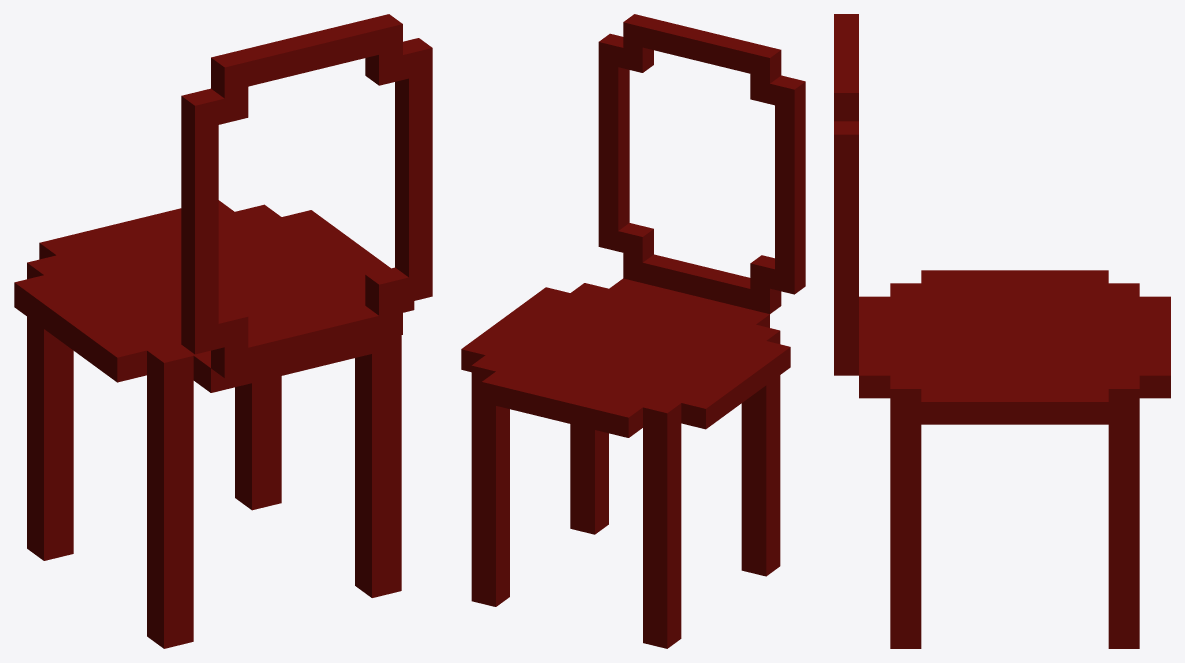
File: pixelred.glb
3 renders of one model, left to right at view 1: azimuth 30°, elevation 25°; view 2: azimuth 150°, elevation 25°; view 3: azimuth 270°, elevation 25°, orthographic. The views are drawn at different scales.
Visible parts, largest first — view 1: pixelred; view 2: pixelred; view 3: pixelred.
Boxes of the visible parts, x1,y1,x2,y2 form: pixelred: (14, 14, 432, 648); pixelred: (461, 14, 805, 648); pixelred: (834, 14, 1170, 648).
Bounding box in the file's own units: 5 × 9.6 × 5.4.
